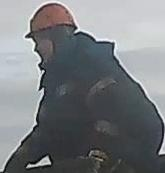gloves: (4, 140, 33, 173)
helmet: (24, 0, 79, 39)
vest: (36, 48, 161, 150)
